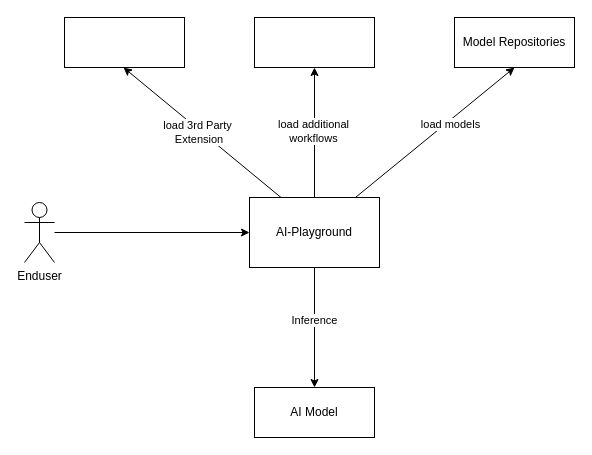
Some shapes in this 592 by 455 pixel diagram are drawn without their labels. The shapes that lost their labels are listed below. From the top down, each one's centre as x and y in pixels, then its label:
the point at 124,42: GitHub
the point at 314,42: AI Playground Repository
